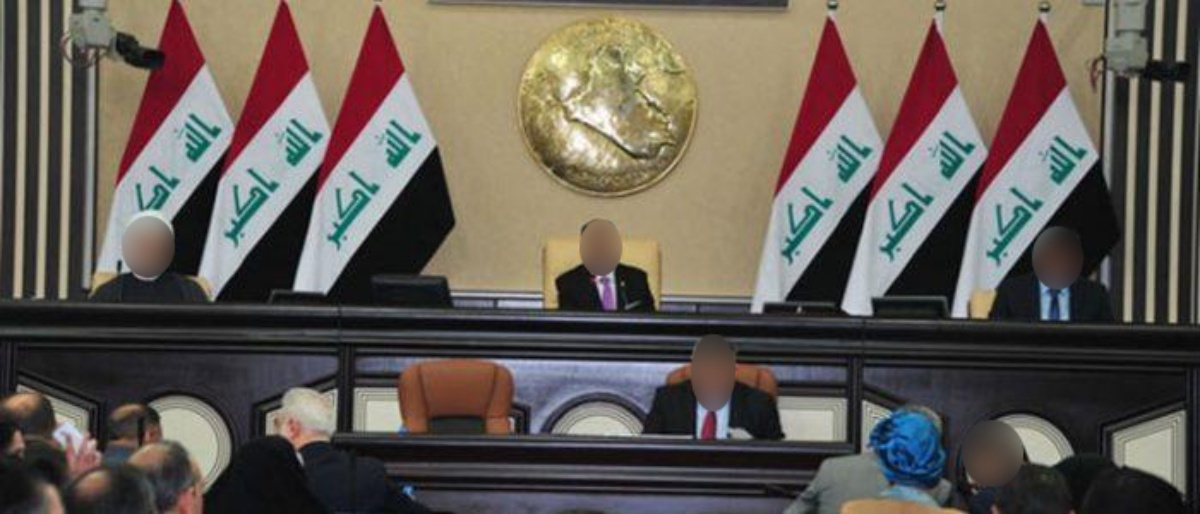text: (785, 179, 800, 276), (801, 179, 816, 276), (817, 179, 832, 276), (321, 163, 336, 259), (337, 163, 352, 259), (353, 163, 368, 259), (369, 163, 384, 259), (977, 177, 992, 273), (993, 177, 1008, 273), (1009, 177, 1024, 273), (1025, 177, 1040, 273), (209, 162, 224, 256), (225, 162, 240, 256), (241, 162, 256, 256), (257, 162, 272, 256), (865, 175, 880, 266), (881, 175, 896, 266), (897, 175, 912, 266), (913, 175, 928, 266), (772, 179, 784, 276), (1073, 127, 1089, 191), (161, 156, 176, 223), (1057, 127, 1072, 191), (193, 105, 208, 167), (369, 110, 384, 170), (385, 110, 400, 170), (401, 110, 416, 170), (209, 105, 223, 167), (945, 127, 960, 184), (273, 162, 282, 256), (273, 112, 288, 168), (289, 112, 304, 168), (305, 112, 320, 168), (849, 131, 864, 186), (833, 179, 841, 276), (961, 127, 974, 184), (313, 163, 320, 259), (969, 177, 976, 273), (151, 156, 160, 223), (177, 156, 186, 223), (929, 175, 935, 266), (1041, 177, 1046, 273), (865, 131, 873, 186), (417, 110, 424, 170), (265, 112, 272, 168), (842, 131, 848, 186), (861, 175, 864, 266), (321, 112, 325, 168), (206, 162, 208, 256), (366, 110, 368, 170), (942, 127, 944, 184), (385, 163, 386, 259), (191, 105, 192, 167)
